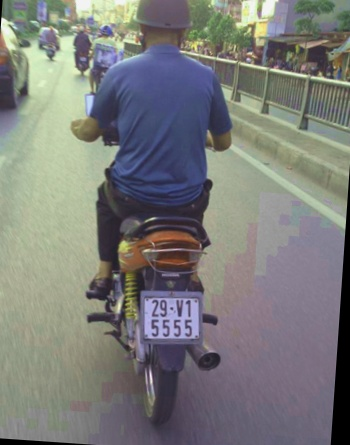Bien-so: (142, 298, 213, 356)
